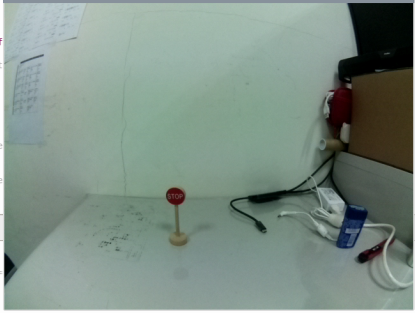Stop: (164, 184, 187, 206)
